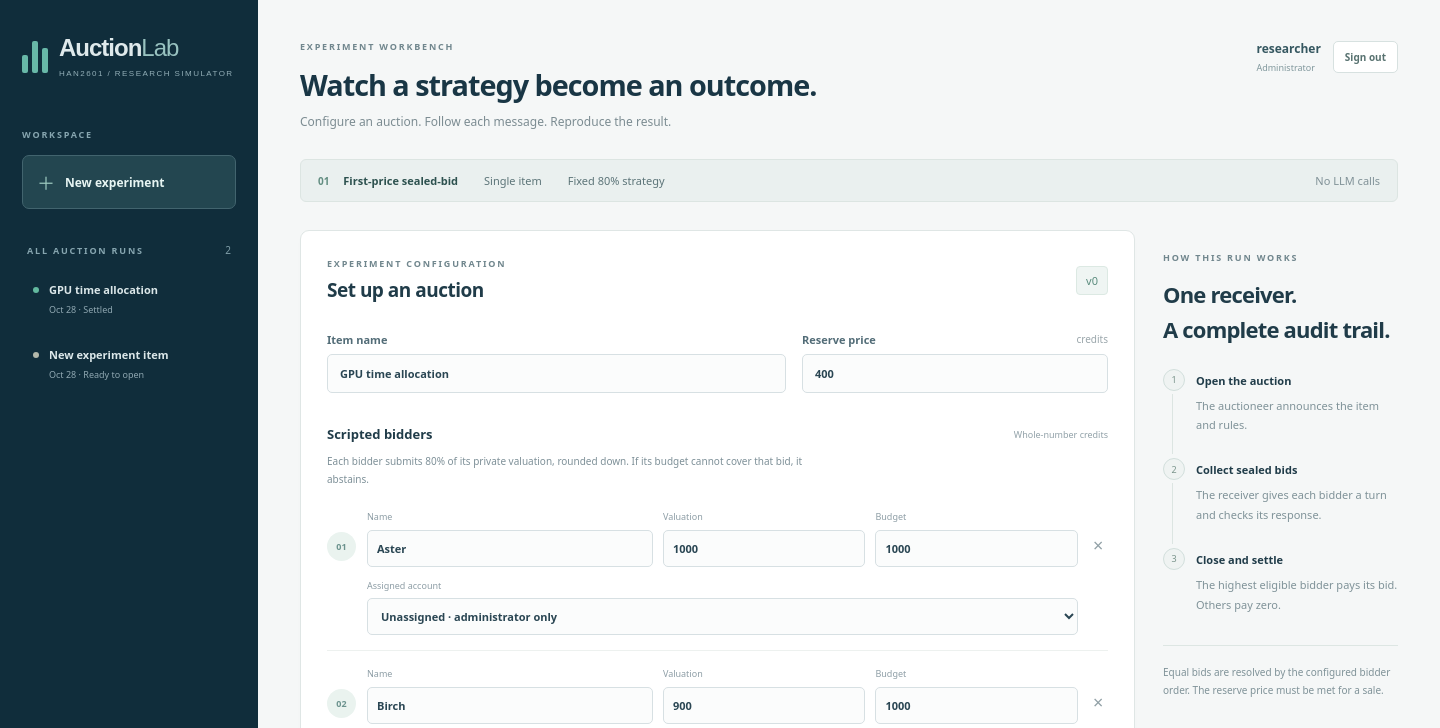
administrator workbench › clears a longer event history when switching to a newly created run
The width and height of the screenshot is (1440, 728).
Click the button "GPU time allocation Oct 28 · Settled" at {"x": 129, "y": 299}, box [22,270,236,328]
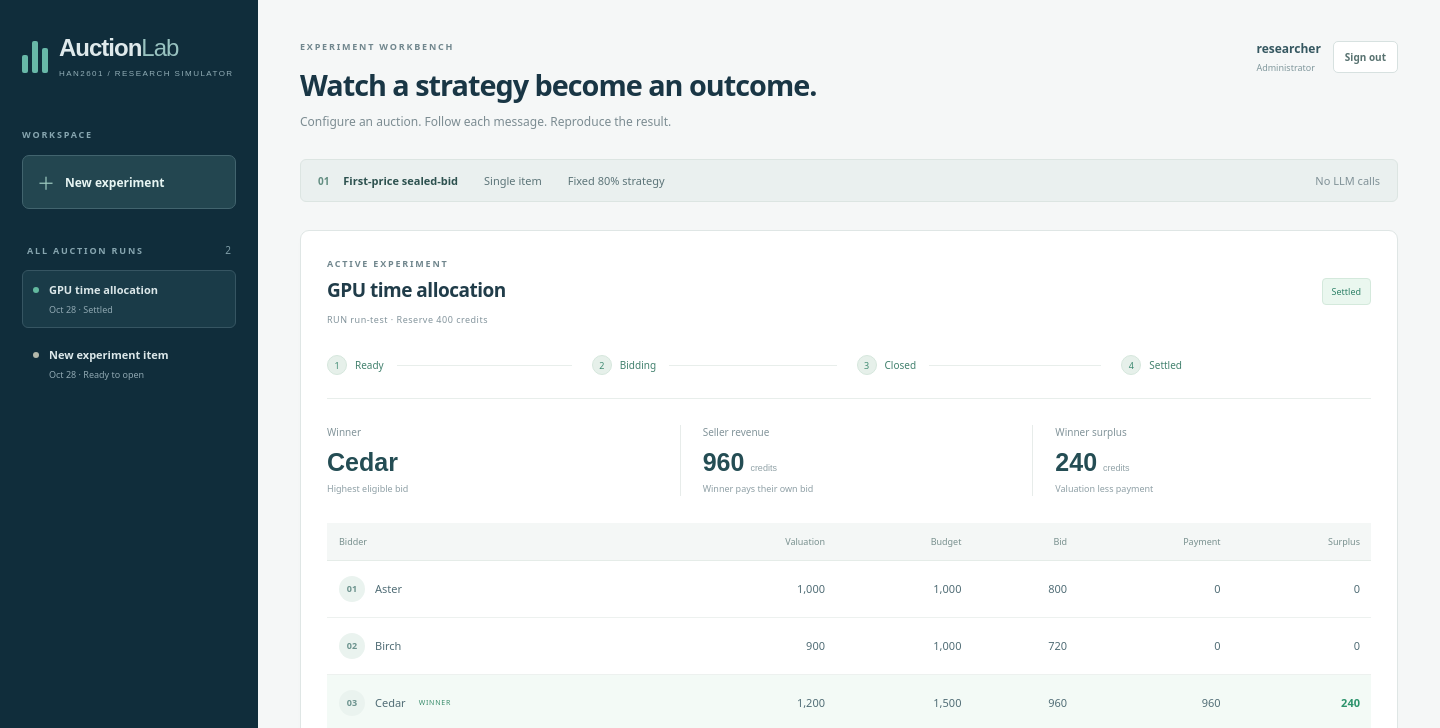
Click the button "New experiment item Oct 28 · Ready to open" at {"x": 129, "y": 364}, box [22,335,236,393]
(page scrolled)
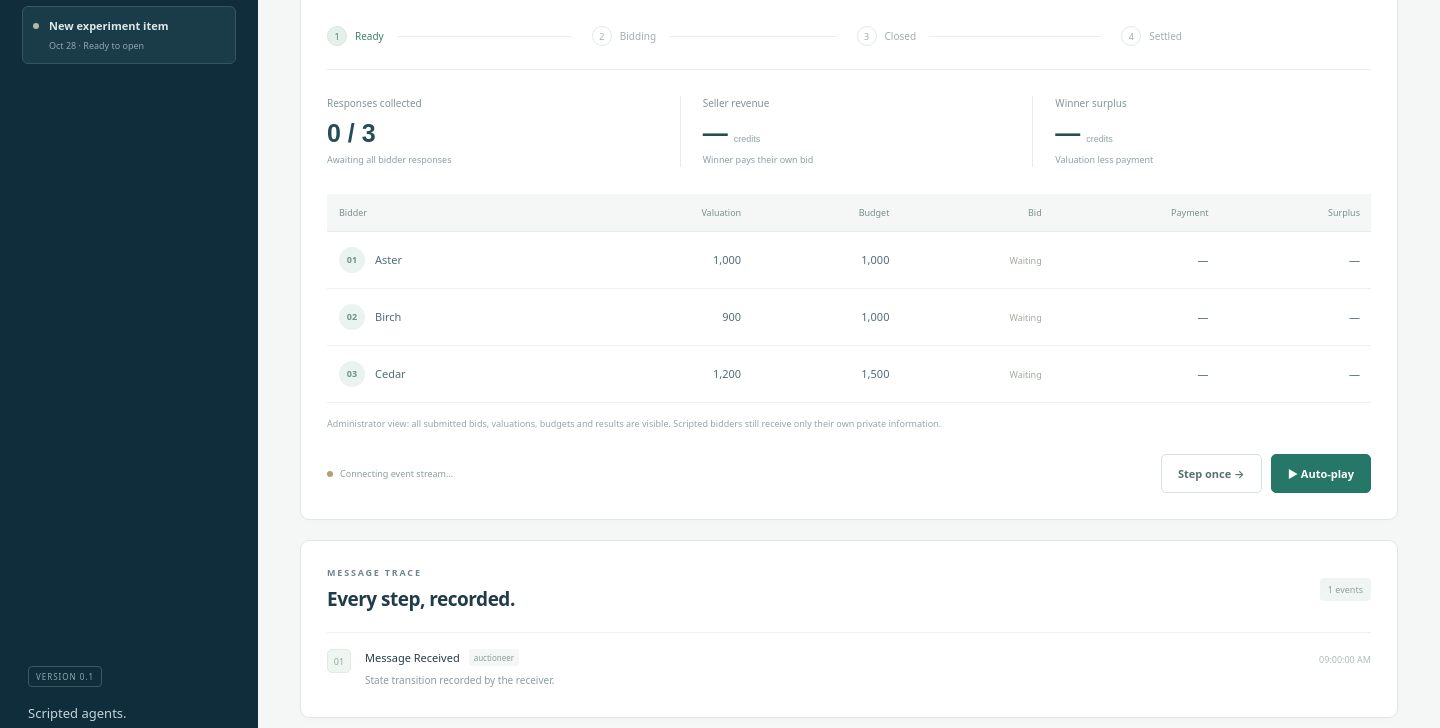
Result: the text "1 events" is shown at [1320,578,1371,601]
